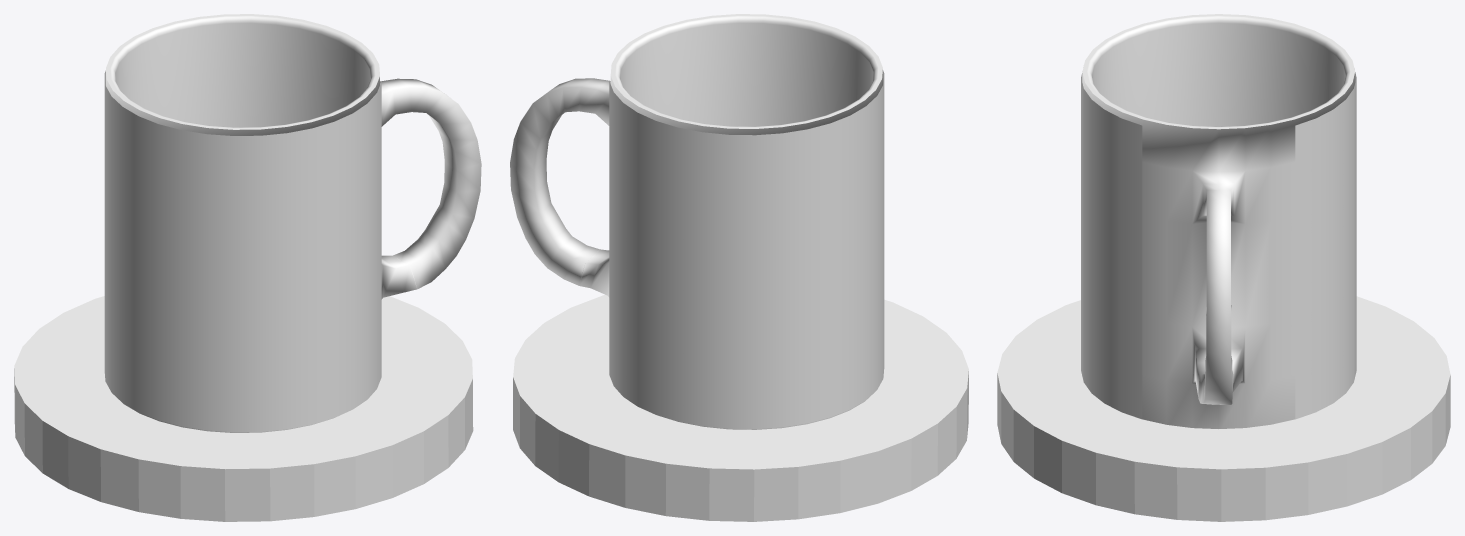
Rendered from texturas.glb.
3 views of the same model, side by side, from view 1: azimuth 30°, elevation 25°; view 2: azimuth 150°, elevation 25°; view 3: azimuth 270°, elevation 25° (orthographic).
Parts seen in each view (by area): view 1: Cilindro.001, Cilindro; view 2: Cilindro.001, Cilindro; view 3: Cilindro.001, Cilindro.
Part boxes in pixels (x1,y1,x2,y2): Cilindro.001: (104,14,481,432); Cilindro: (14,296,473,521); Cilindro.001: (510,14,884,429); Cilindro: (513,294,968,521); Cilindro.001: (1081,14,1356,428); Cilindro: (997,296,1450,521).
Size of the model in its own units: 2.34 by 1.86 by 2.16.
Materials: 4 (1 with a texture image).
